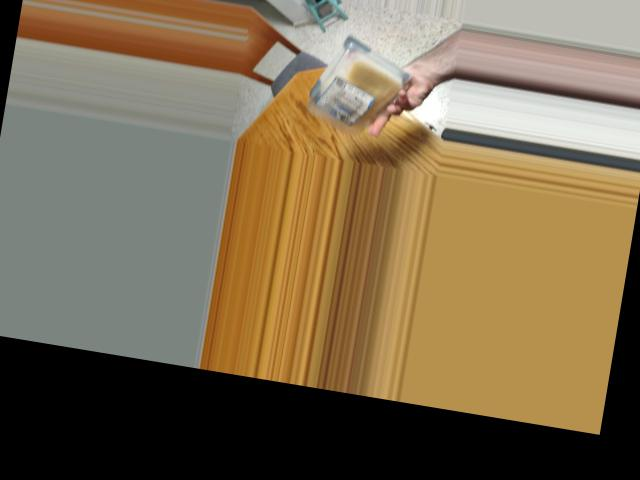cheese: (305, 31, 392, 132)
